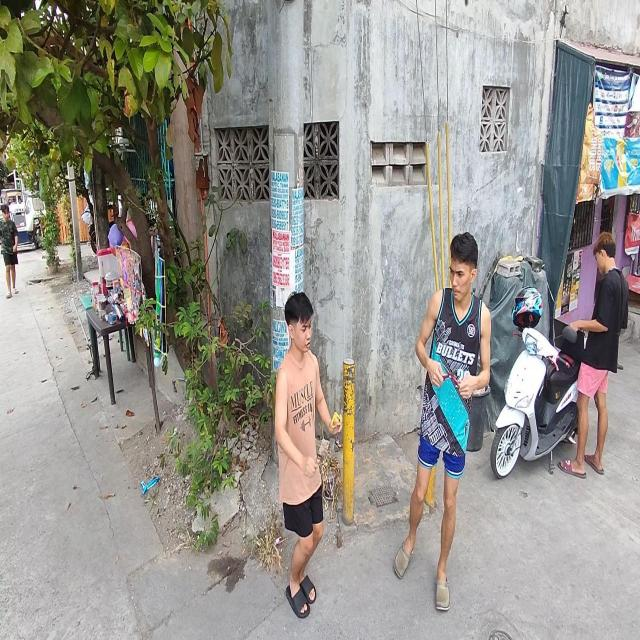scissor: (442, 365, 461, 386)
